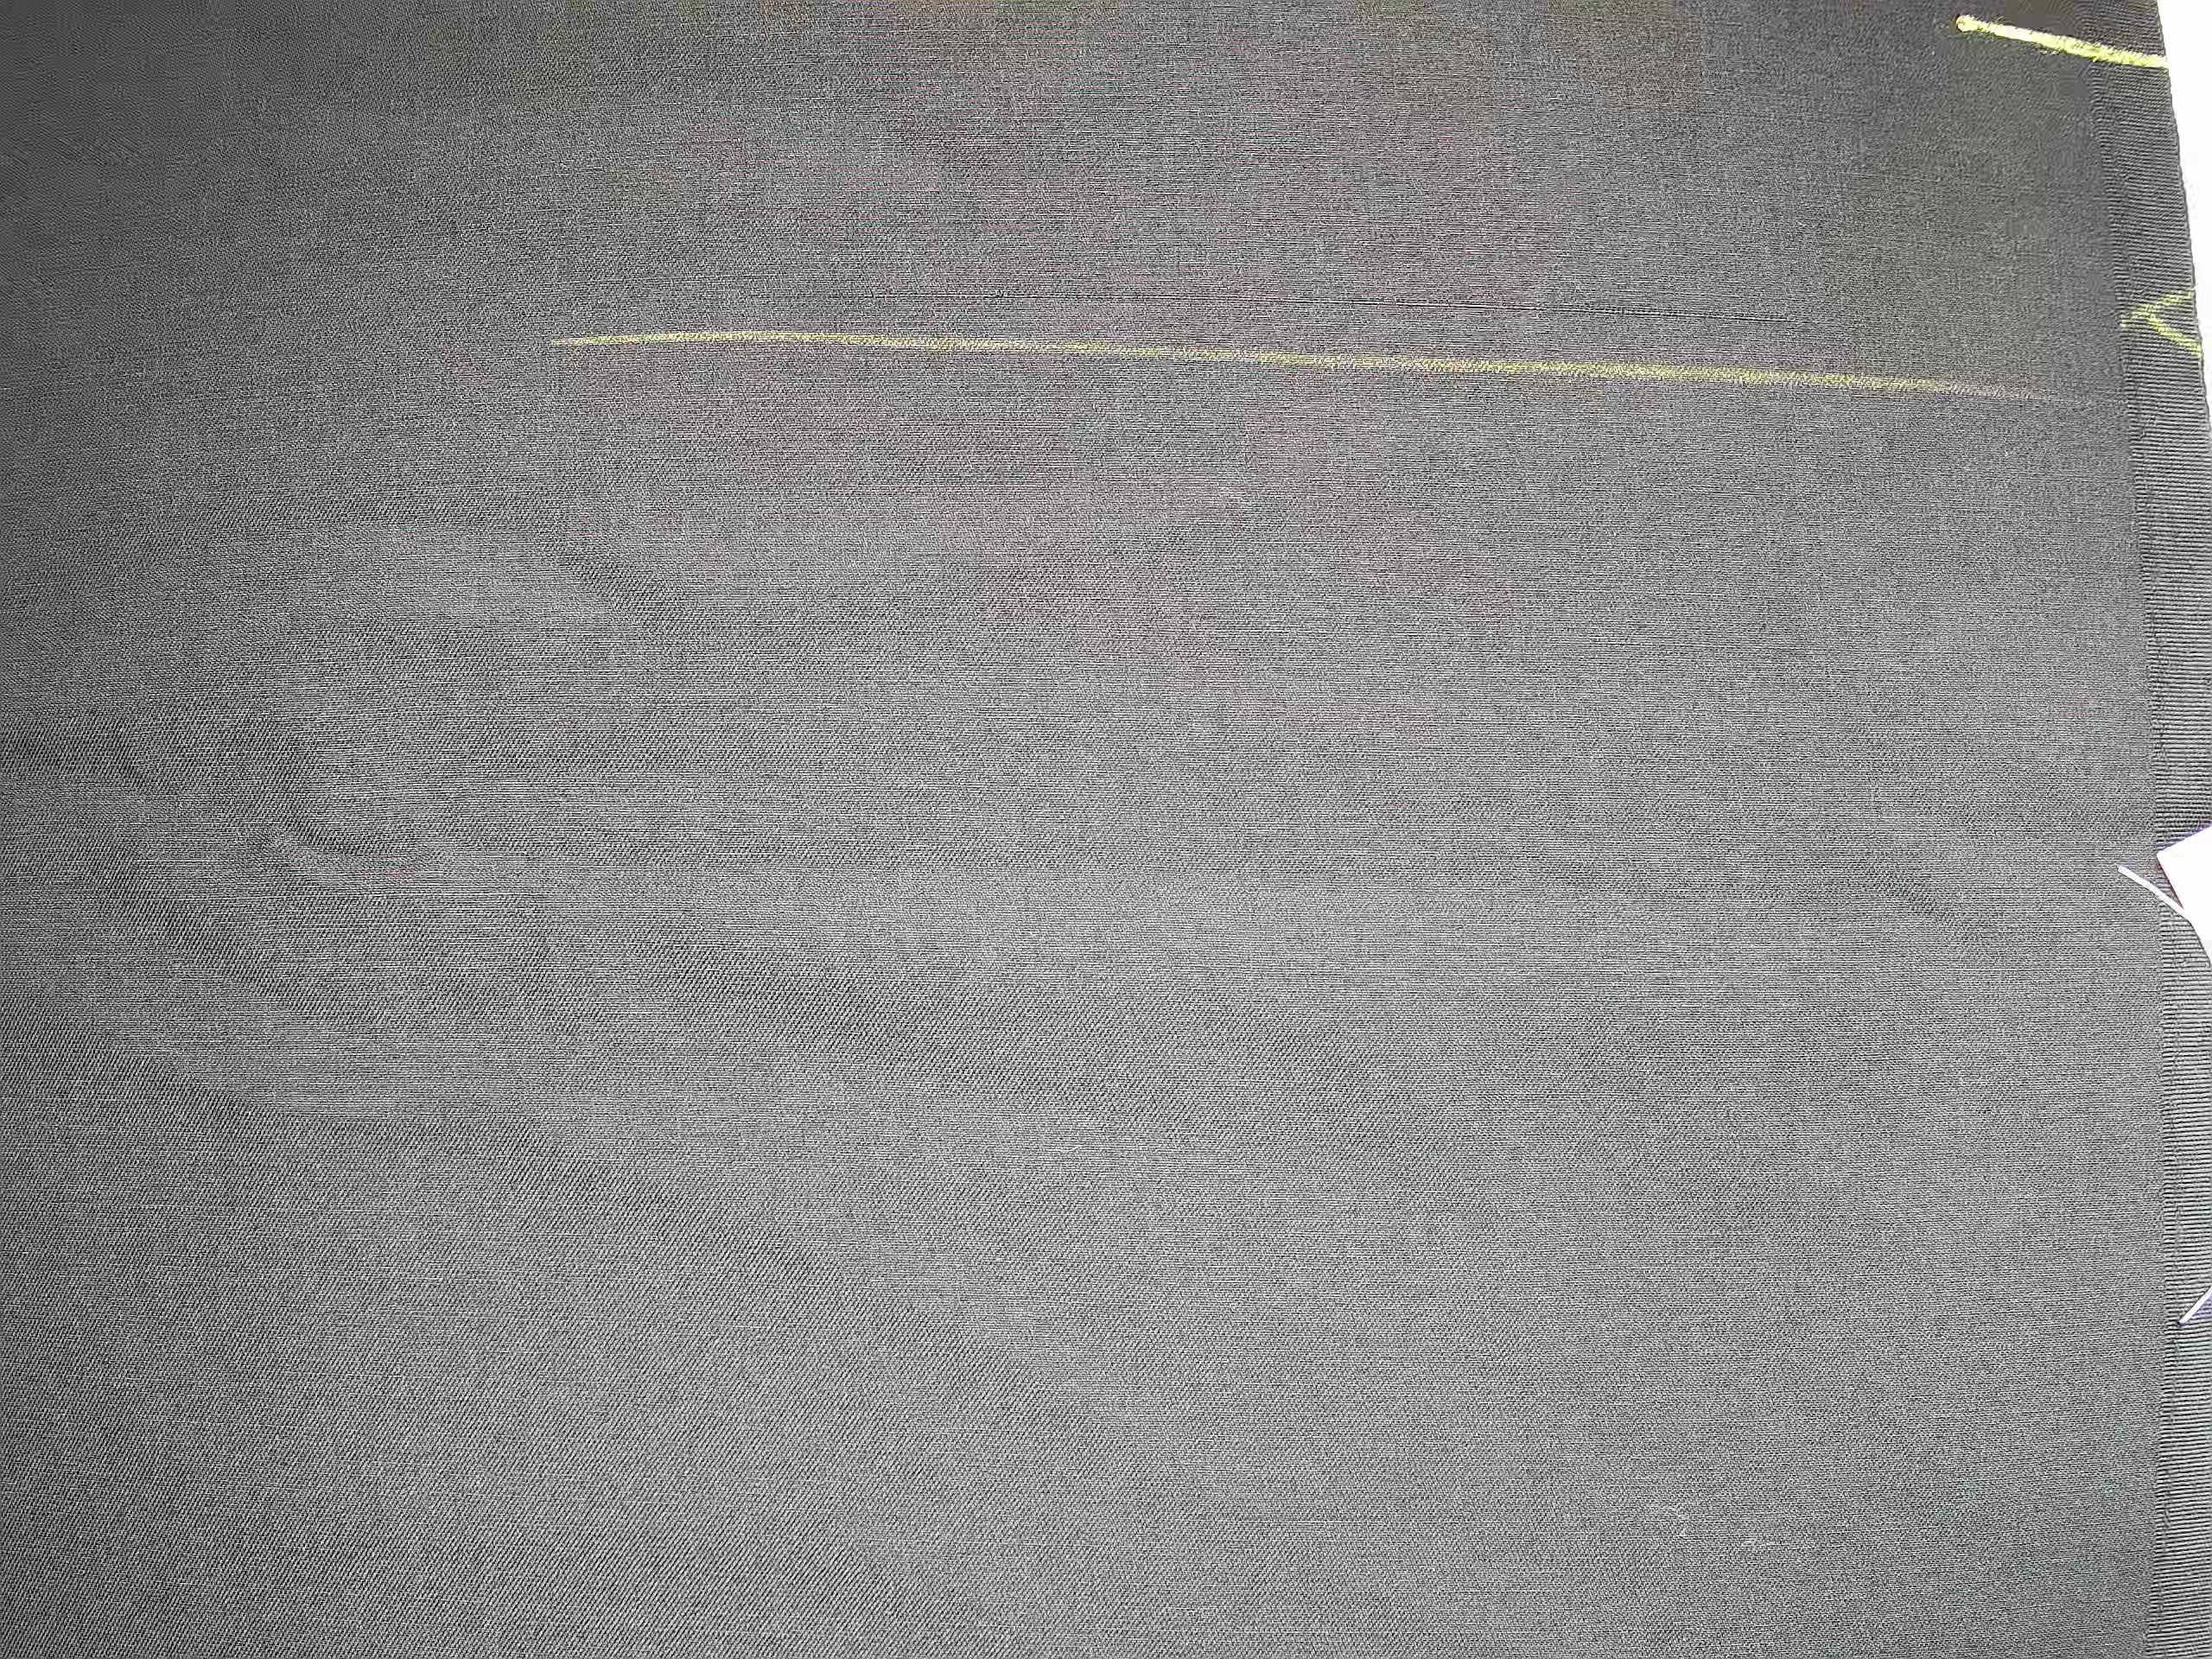thin-spinning: (791, 277, 1801, 338)
